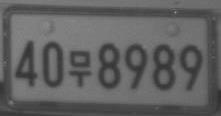0: (41, 40, 65, 89)
4: (13, 40, 39, 88)
8: (151, 43, 176, 91), (98, 43, 121, 89)
9: (179, 44, 204, 91), (123, 43, 148, 89)
무: (68, 49, 92, 88)
